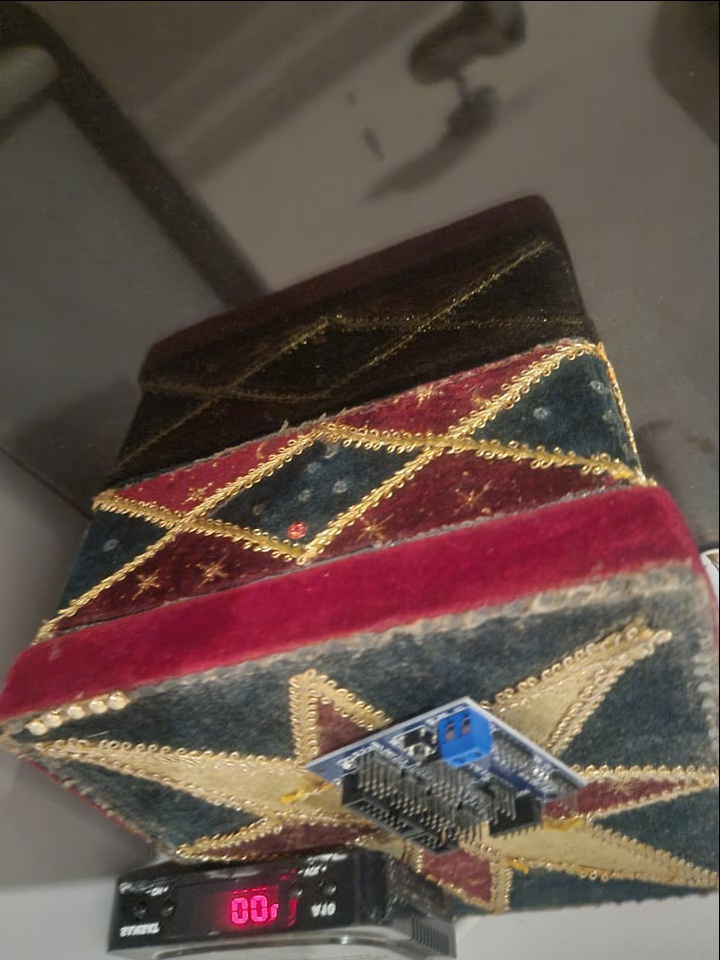5V EXPANSION: (304, 693, 586, 853)
